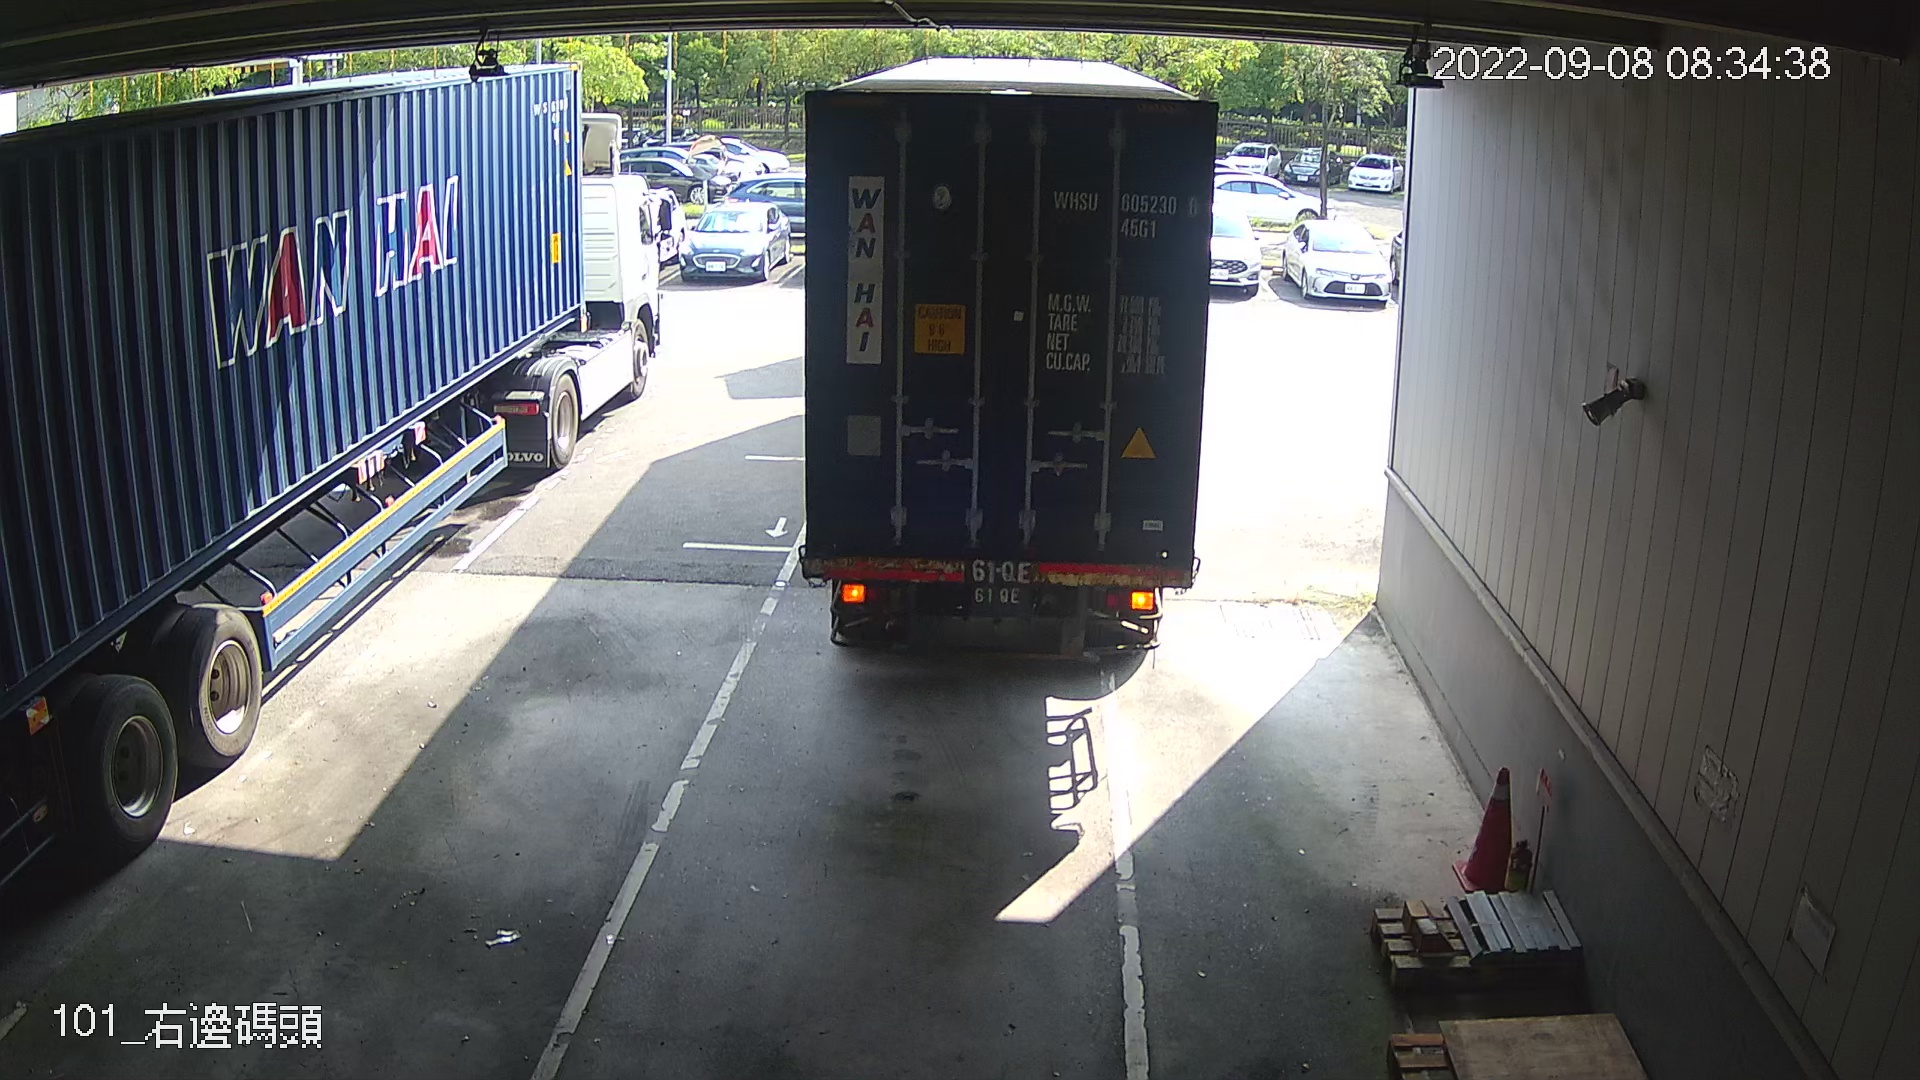container: (1042, 177, 1207, 247)
